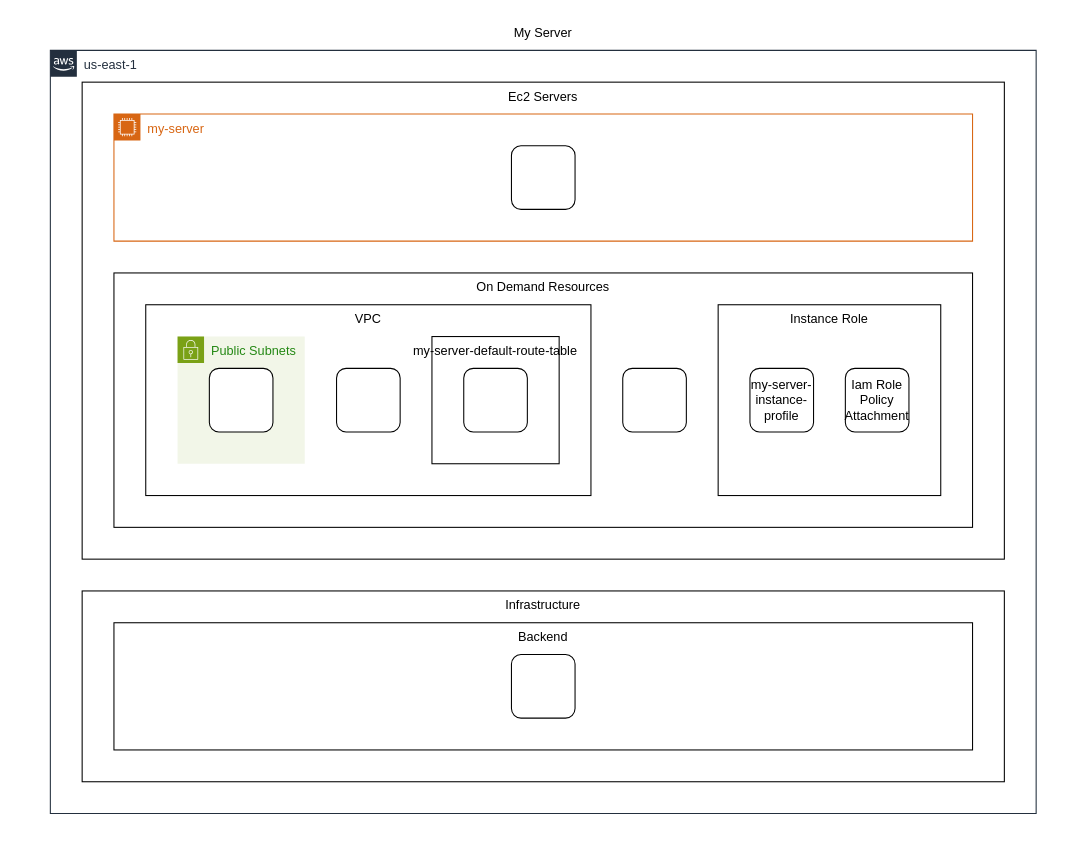
Some shapes in this 1085 by 863 pixel diagram are drawn without their labels. The shapes that lost their labels are listed below. From the top down, each one's centre as x and y in pixels, then its label:
At [542,177]: "Output of my-server".
At [240,399]: "my-server-public-a-subnet".
At [367,399]: "my-server-internet-gateway".
At [495,399]: "Route".
At [654,399]: "AMI".
At [542,685]: "my-server.stack.json".
